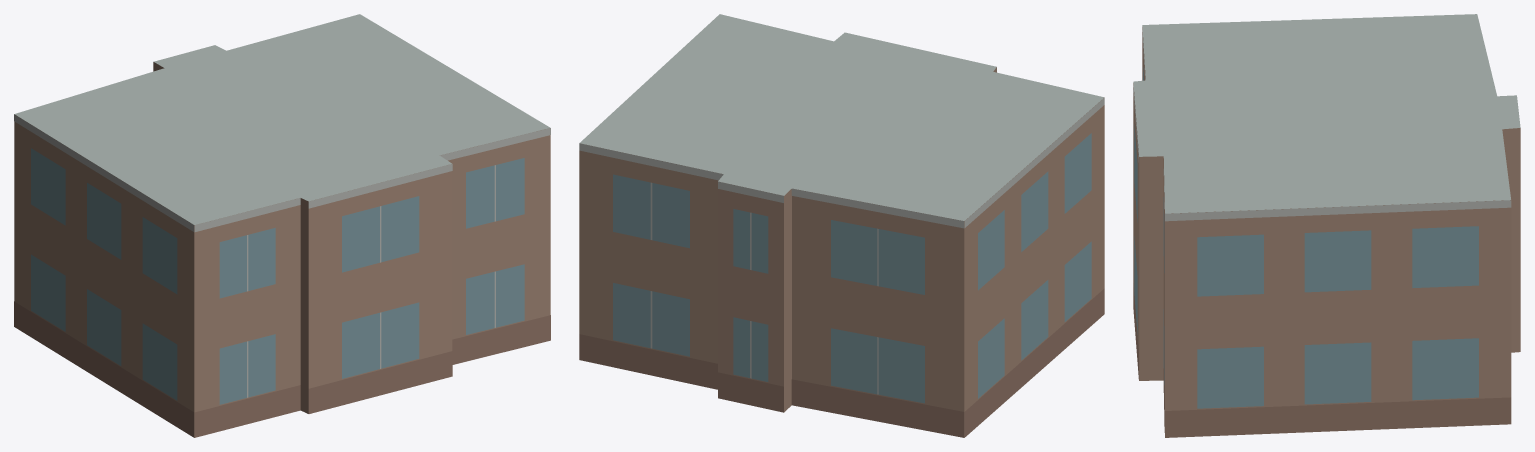
Rendered from survey-upis-32638808.glb.
The picture shows the model from 3 angles, left to right: view 1: azimuth 30°, elevation 25°; view 2: azimuth 150°, elevation 25°; view 3: azimuth 270°, elevation 25°; orthographic projection. The views are drawn at different scales.
Visible parts, largest first — view 1: survey-upis-32638808.tmp; view 2: survey-upis-32638808.tmp; view 3: survey-upis-32638808.tmp.
Part boxes in pixels (box(x1,y1,x2,y2)): survey-upis-32638808.tmp: box(14, 14, 550, 437); survey-upis-32638808.tmp: box(579, 14, 1104, 437); survey-upis-32638808.tmp: box(1133, 14, 1520, 437).
Size of the model in its own units: 13.77 by 7.2 by 11.28.
